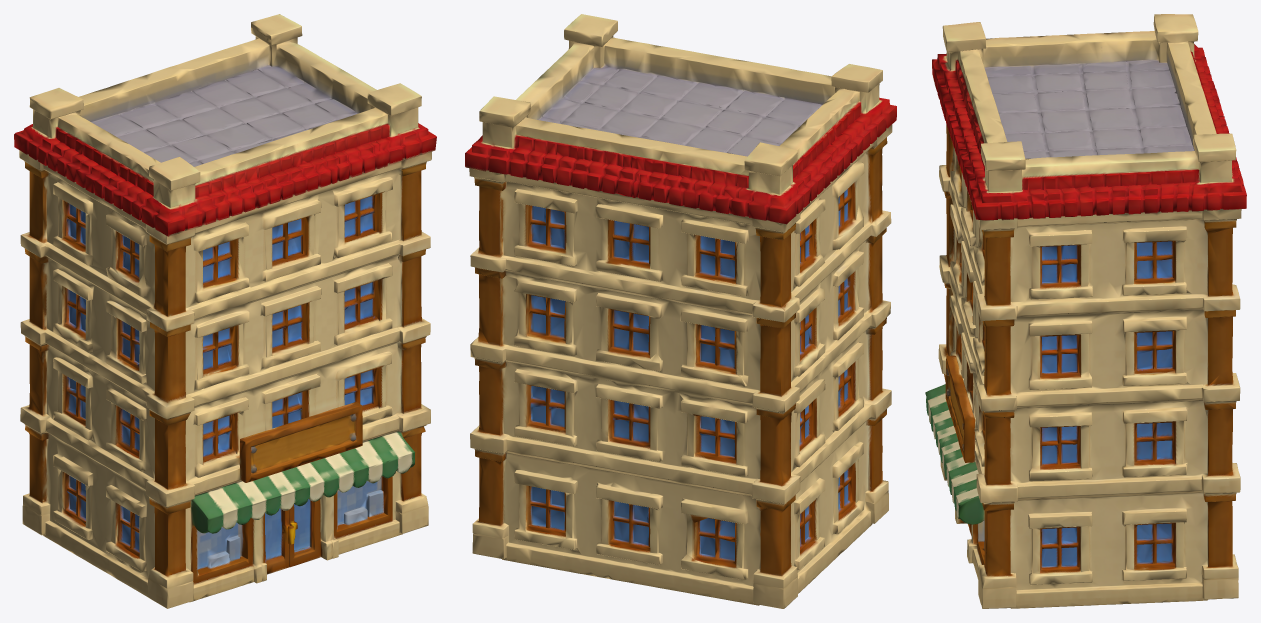
The model's file is shop-4-detail.glb.
The picture shows the model from 3 angles, left to right: view 1: azimuth 30°, elevation 25°; view 2: azimuth 150°, elevation 25°; view 3: azimuth 270°, elevation 25°; orthographic projection. The views are drawn at different scales.
Parts seen in each view (by area): view 1: tripo_node_a026ecae-ddbc-4c12-92a4-12afba4ccc64; view 2: tripo_node_a026ecae-ddbc-4c12-92a4-12afba4ccc64; view 3: tripo_node_a026ecae-ddbc-4c12-92a4-12afba4ccc64.
Boxes of the visible parts, left/top/right/bottom form: tripo_node_a026ecae-ddbc-4c12-92a4-12afba4ccc64: left=14, top=14, right=436, bottom=608; tripo_node_a026ecae-ddbc-4c12-92a4-12afba4ccc64: left=465, top=14, right=896, bottom=608; tripo_node_a026ecae-ddbc-4c12-92a4-12afba4ccc64: left=925, top=14, right=1246, bottom=608.
Bounding box in the file's own units: 2.28 × 3 × 1.94.
Materials: 1 (1 with a texture image).
